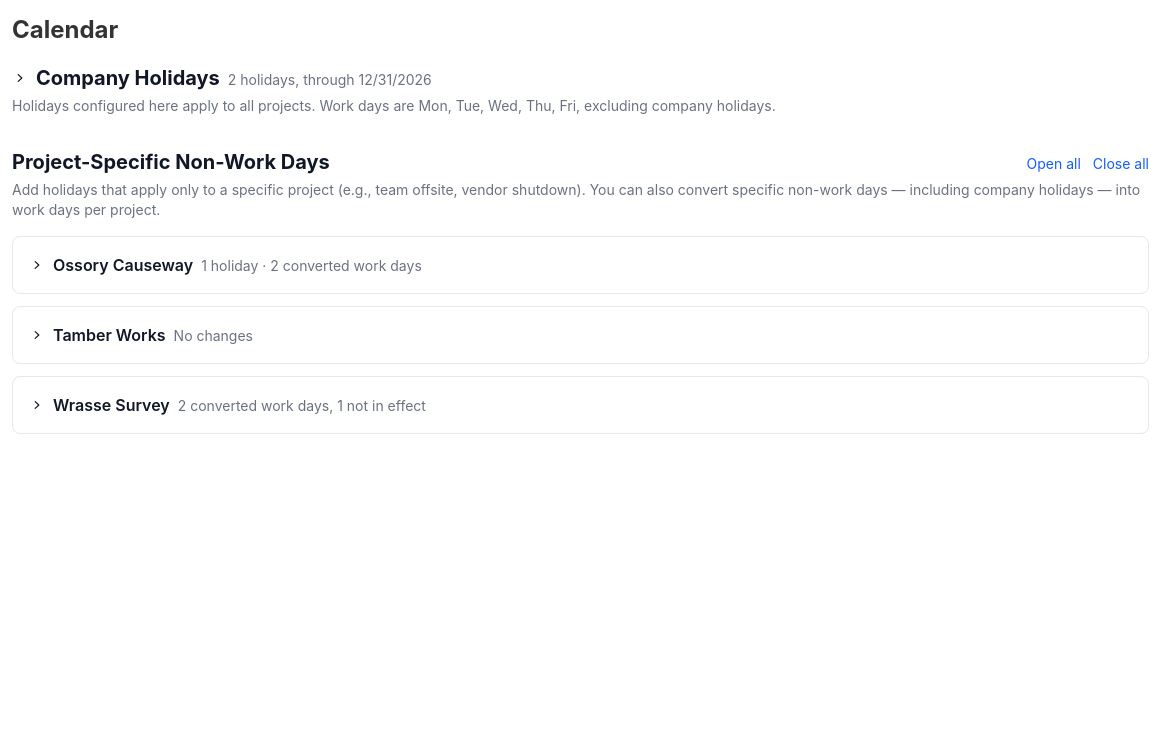
Test: WI-174: every calendar is one line, closed › closing a row keeps what was typed in it, and a confirmation waiting in it
Click the button "Tamber Works No changes". click: point(109, 335)
box: [29,323,1132,347]
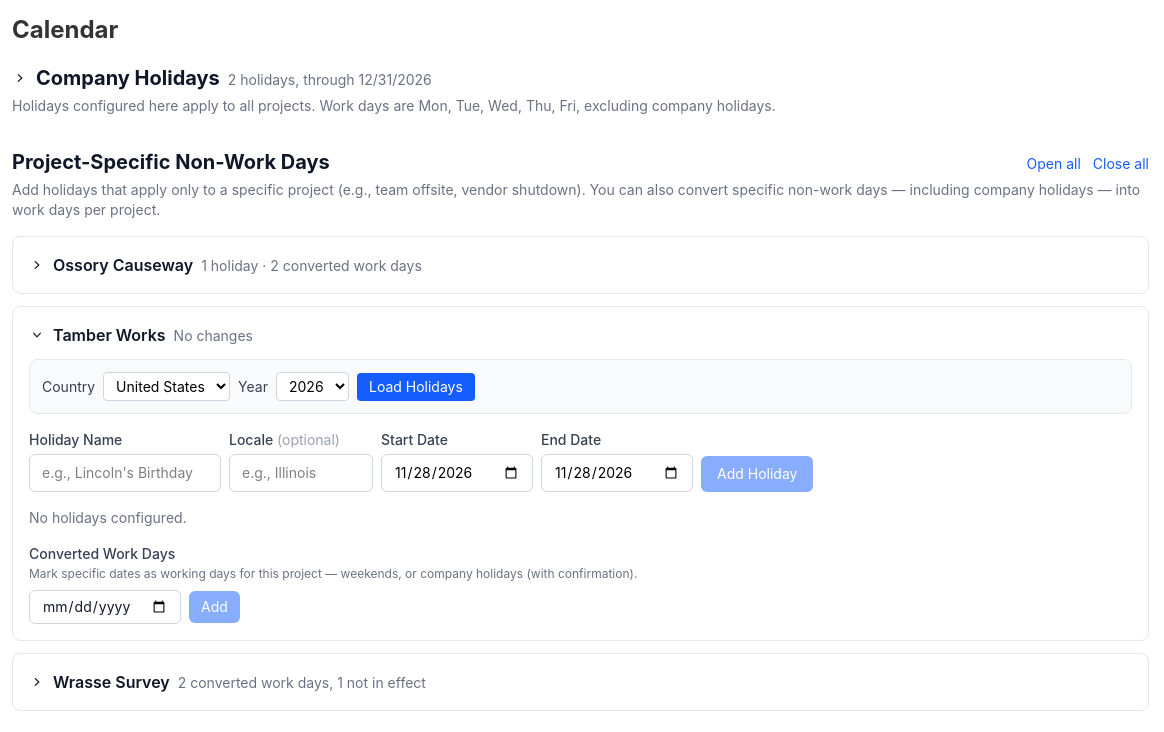
Type "Half-typed offsite" into the field labelled "Holiday Name". click: point(125, 473)
box: [29,454,221,492]
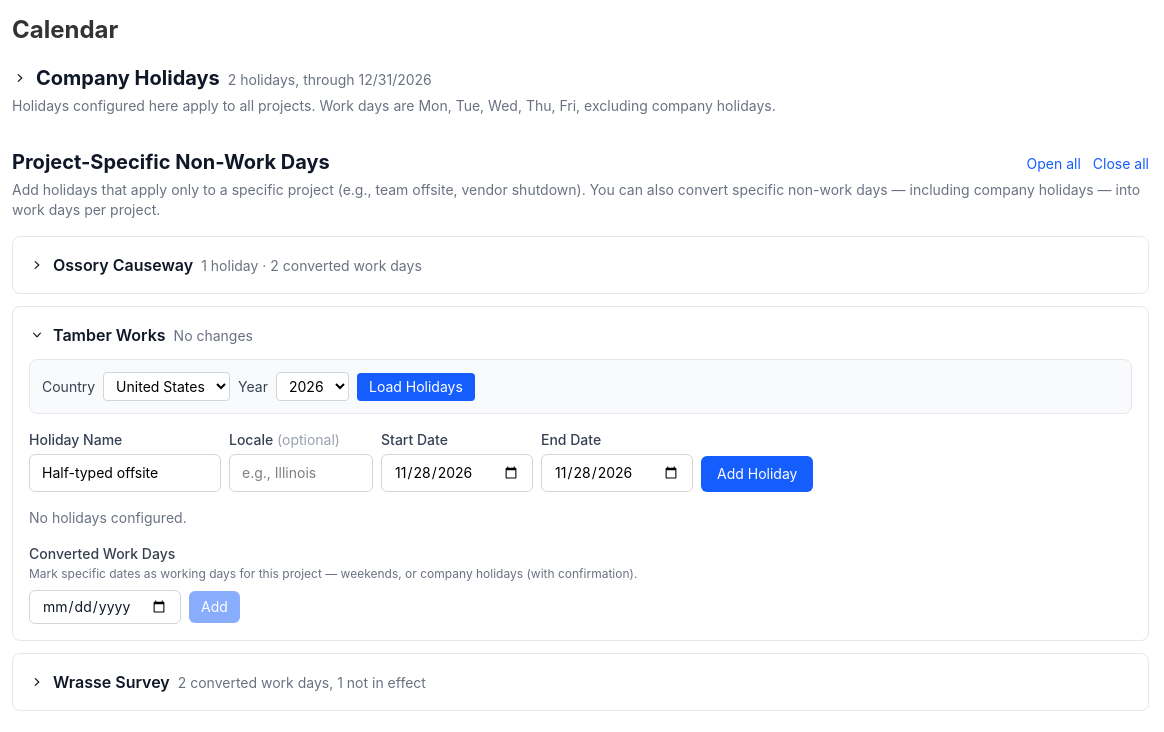
Note: 11/26 is a company holiday, so Add asks first.
Type "2026-11-26" into the date field named "Work day override date". click: point(105, 607)
box: [29,590,181,624]
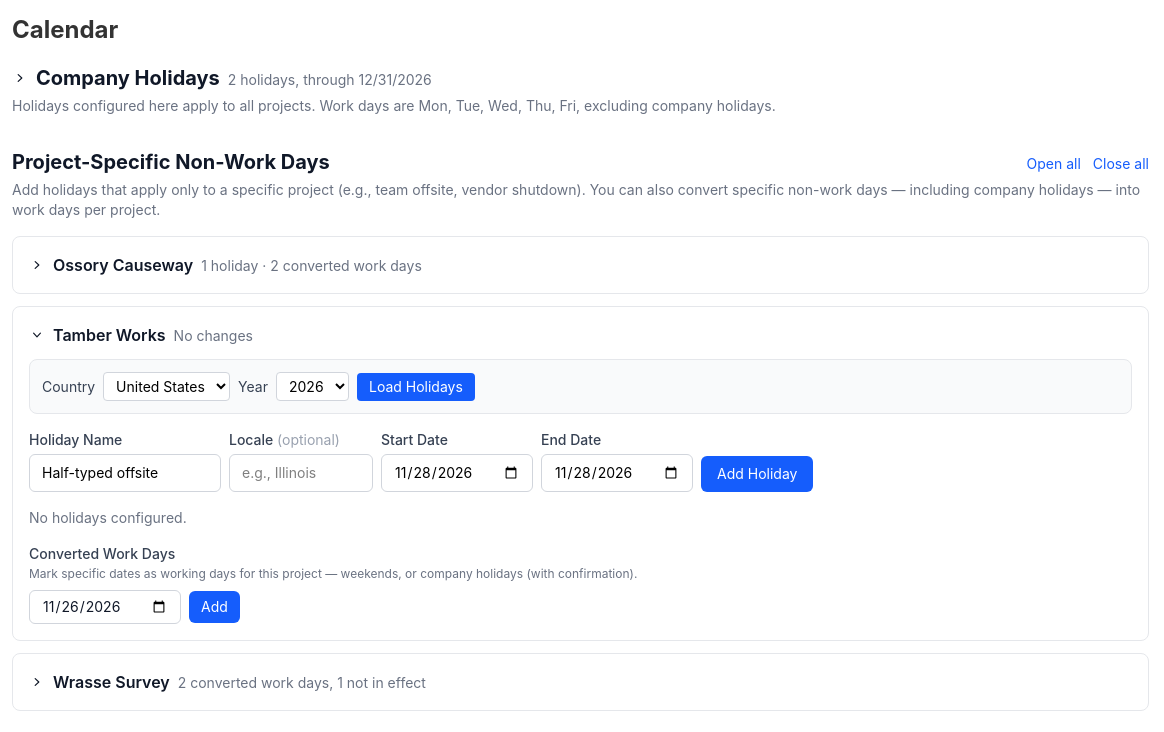
Click the button "Add". click: point(214, 607)
box: [189,591,240,623]
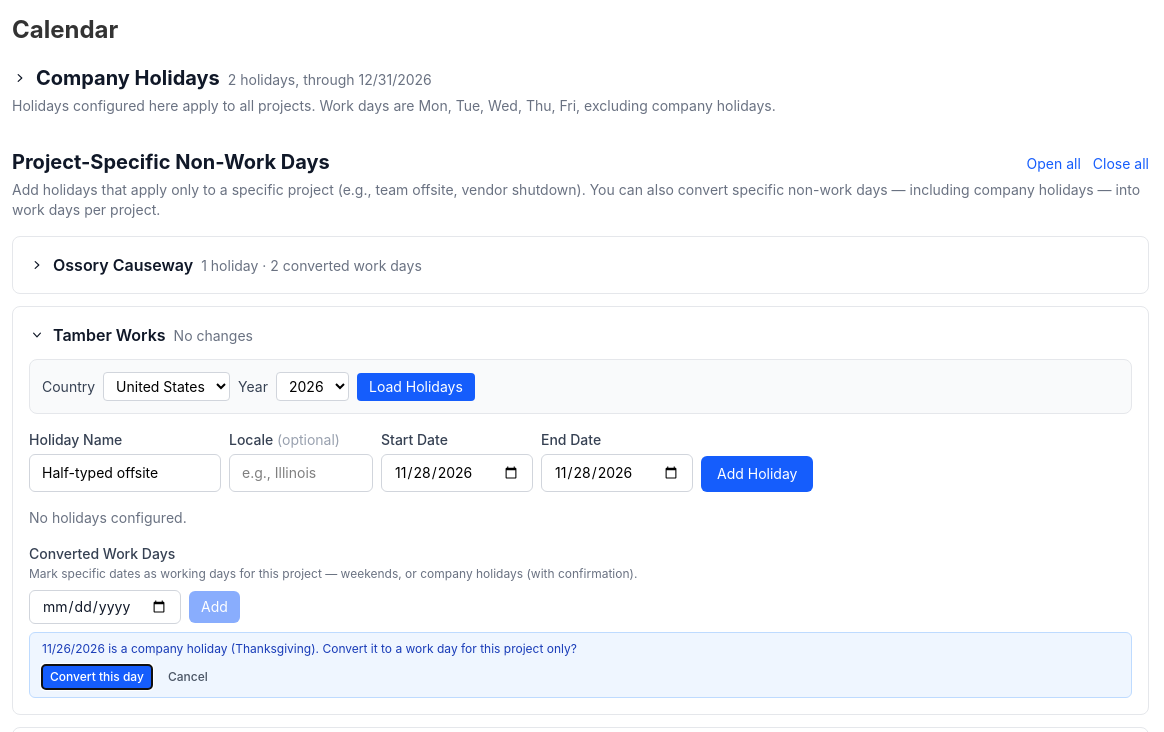
Expected: the button with aria-label "Convert 11/26/2026 to a work day" is shown, [42,665,152,689]
Click the button "Tamber Works No changes". click: point(109, 335)
box: [29,323,1132,347]
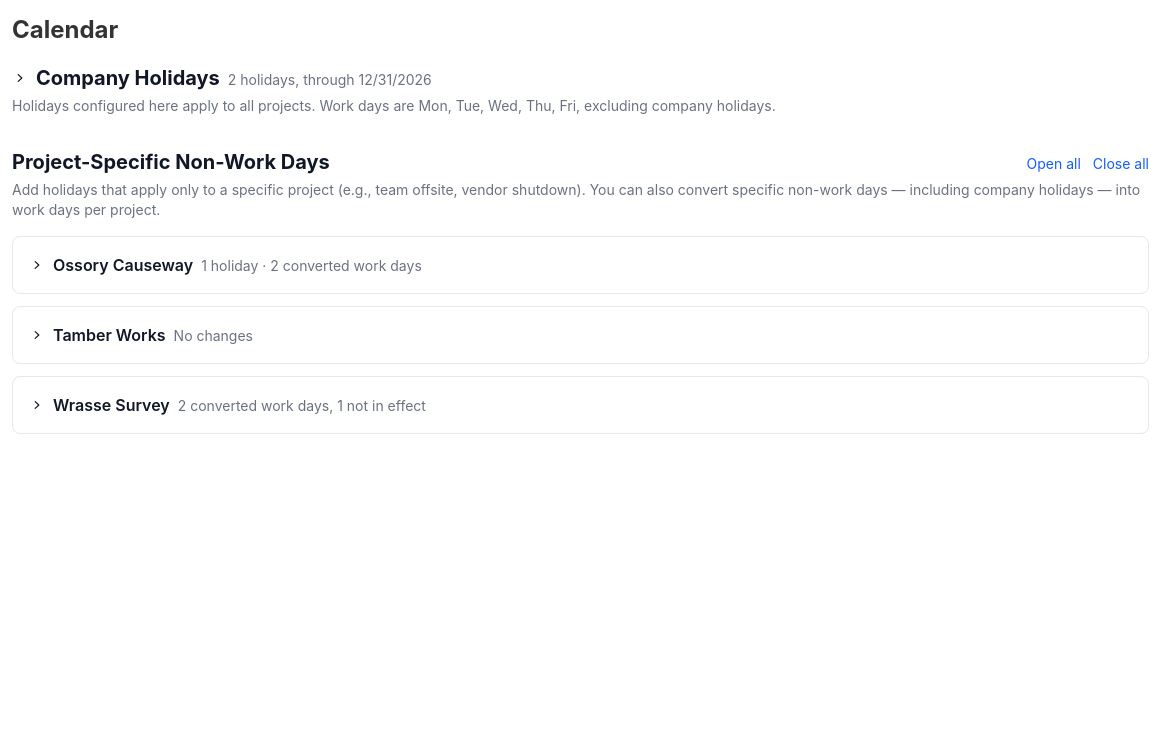
Click the button "Tamber Works No changes". click: point(109, 335)
box: [29,323,1132,347]
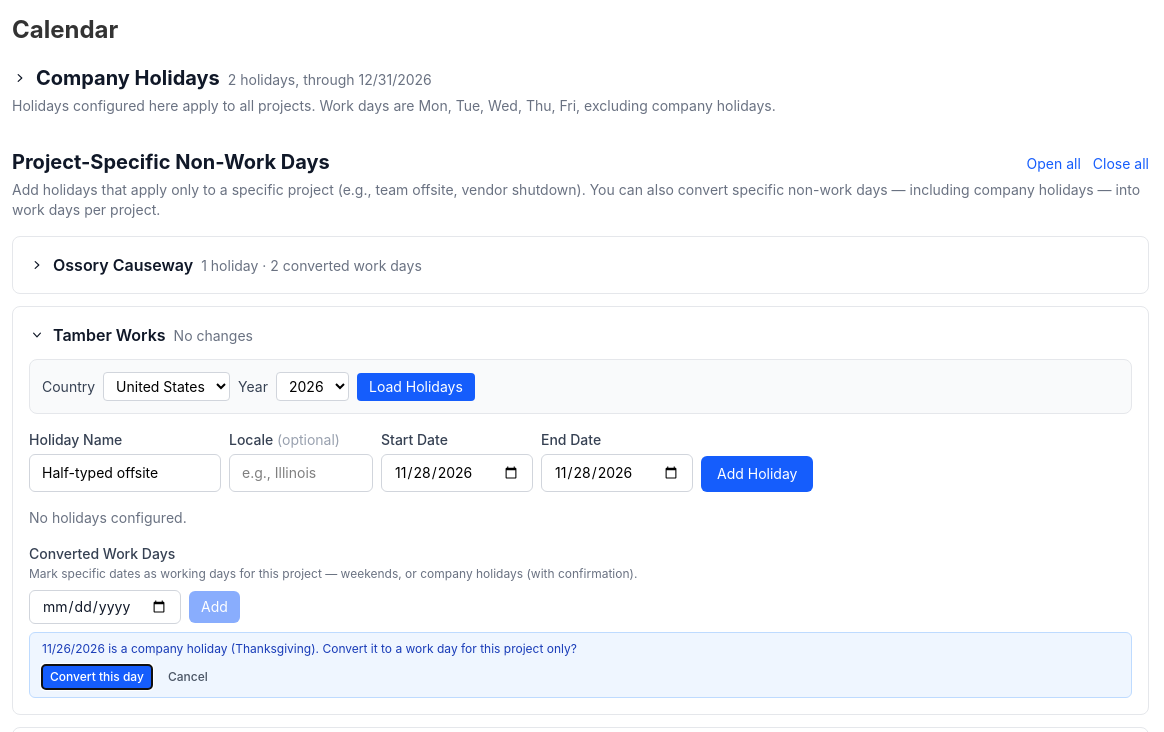
Expected: the button with aria-label "Convert 11/26/2026 to a work day" is shown, [42,665,152,689]
